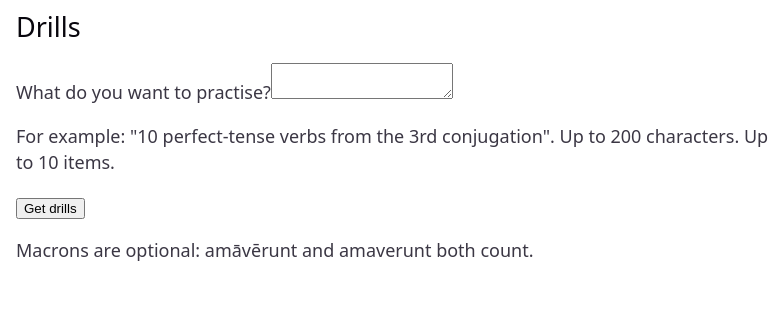
Test case: a 429 shows the daily limit message
The image size is (784, 323).
Type "rex plural" into the text box labelled "What do you want to practise?".
click(362, 81); type("rex plural")  # box left=271, top=63, right=453, bottom=99
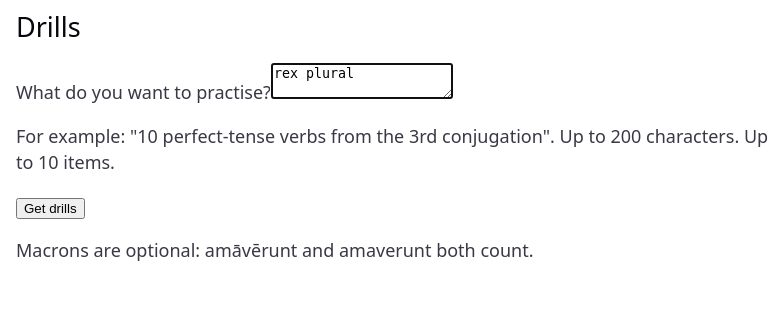
Click the button "Get drills".
click(50, 209)  # box left=16, top=198, right=85, bottom=219
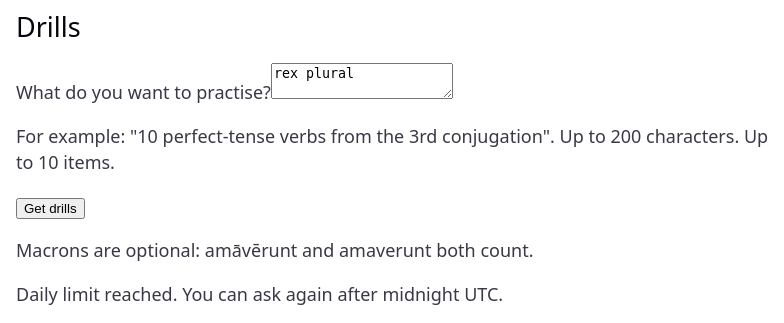
Expected: the message shows "Daily limit reached", left=16, top=282, right=503, bottom=306
